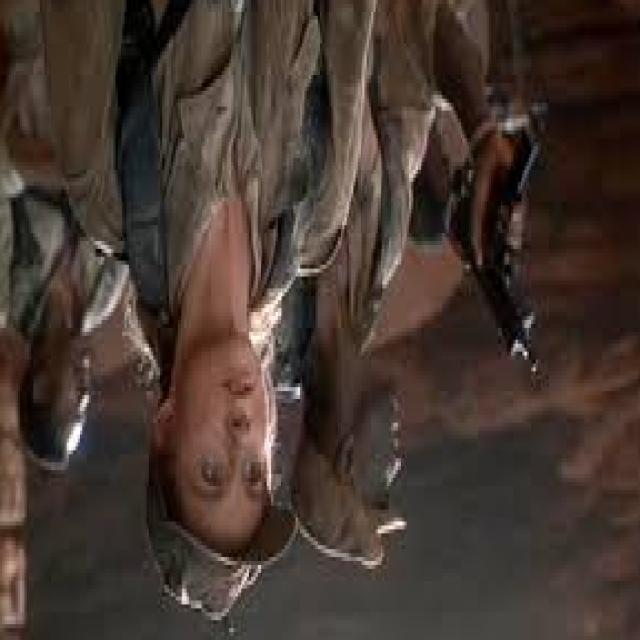gun: (437, 115, 566, 357)
